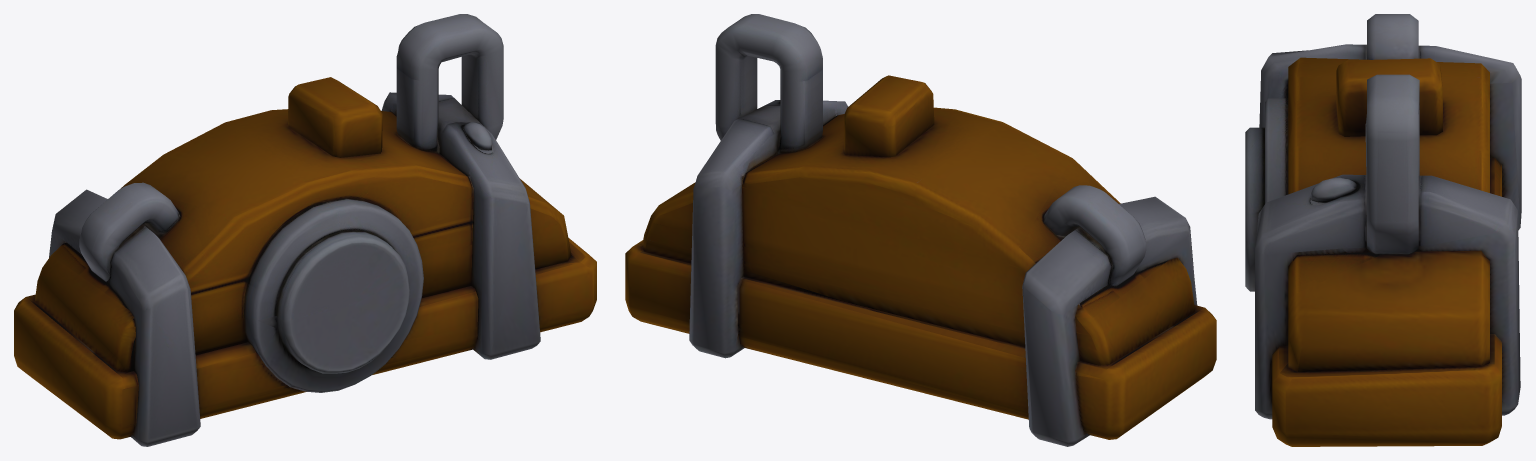
File: Edge.fbx
The picture shows the model from 3 angles, left to right: view 1: azimuth 30°, elevation 25°; view 2: azimuth 150°, elevation 25°; view 3: azimuth 270°, elevation 25°; orthographic projection. The views are drawn at different scales.
Visible parts, largest first — view 1: tripo_node_cb929331; view 2: tripo_node_cb929331; view 3: tripo_node_cb929331.
Part boxes in pixels (x1=…): tripo_node_cb929331: x1=14, y1=14, x2=596, y2=446; tripo_node_cb929331: x1=625, y1=14, x2=1216, y2=446; tripo_node_cb929331: x1=1245, y1=14, x2=1521, y2=446.
Bounding box in the file's own units: 99.8 × 43.95 × 56.84.
Materials: 1 (1 with a texture image).
